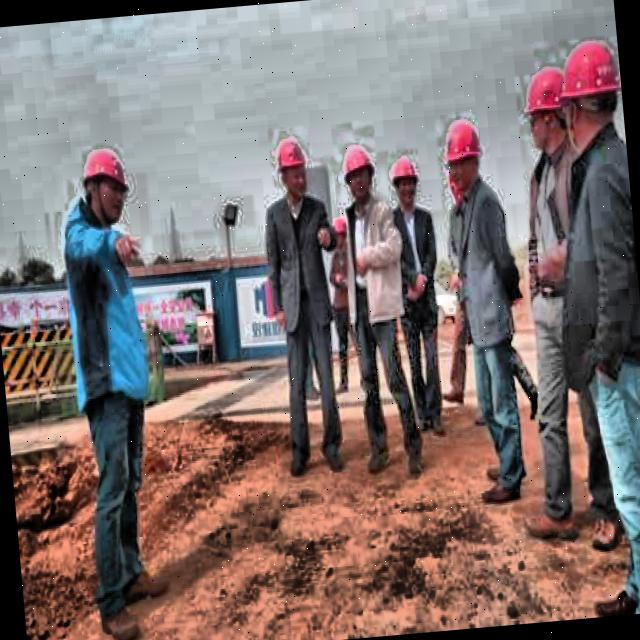helmet: (554, 32, 624, 153), (73, 142, 133, 228), (521, 66, 571, 158), (440, 120, 486, 206), (270, 132, 313, 206), (340, 142, 379, 208), (387, 152, 422, 212), (328, 214, 351, 251)
